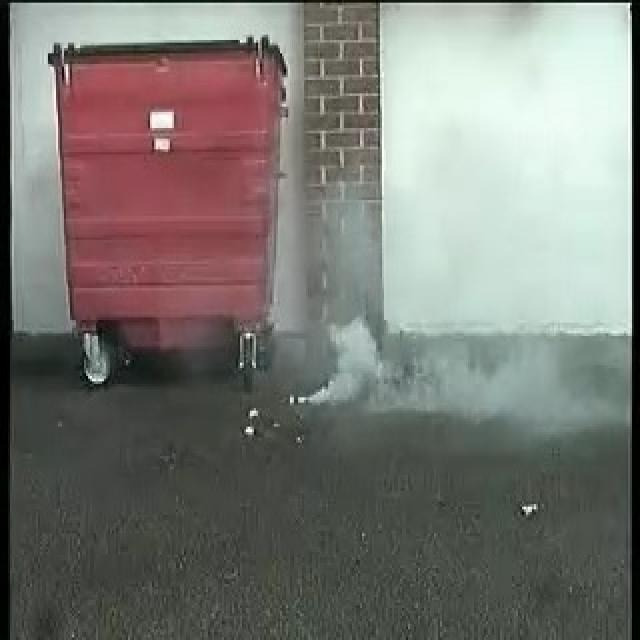smoke: (294, 284, 508, 417)
